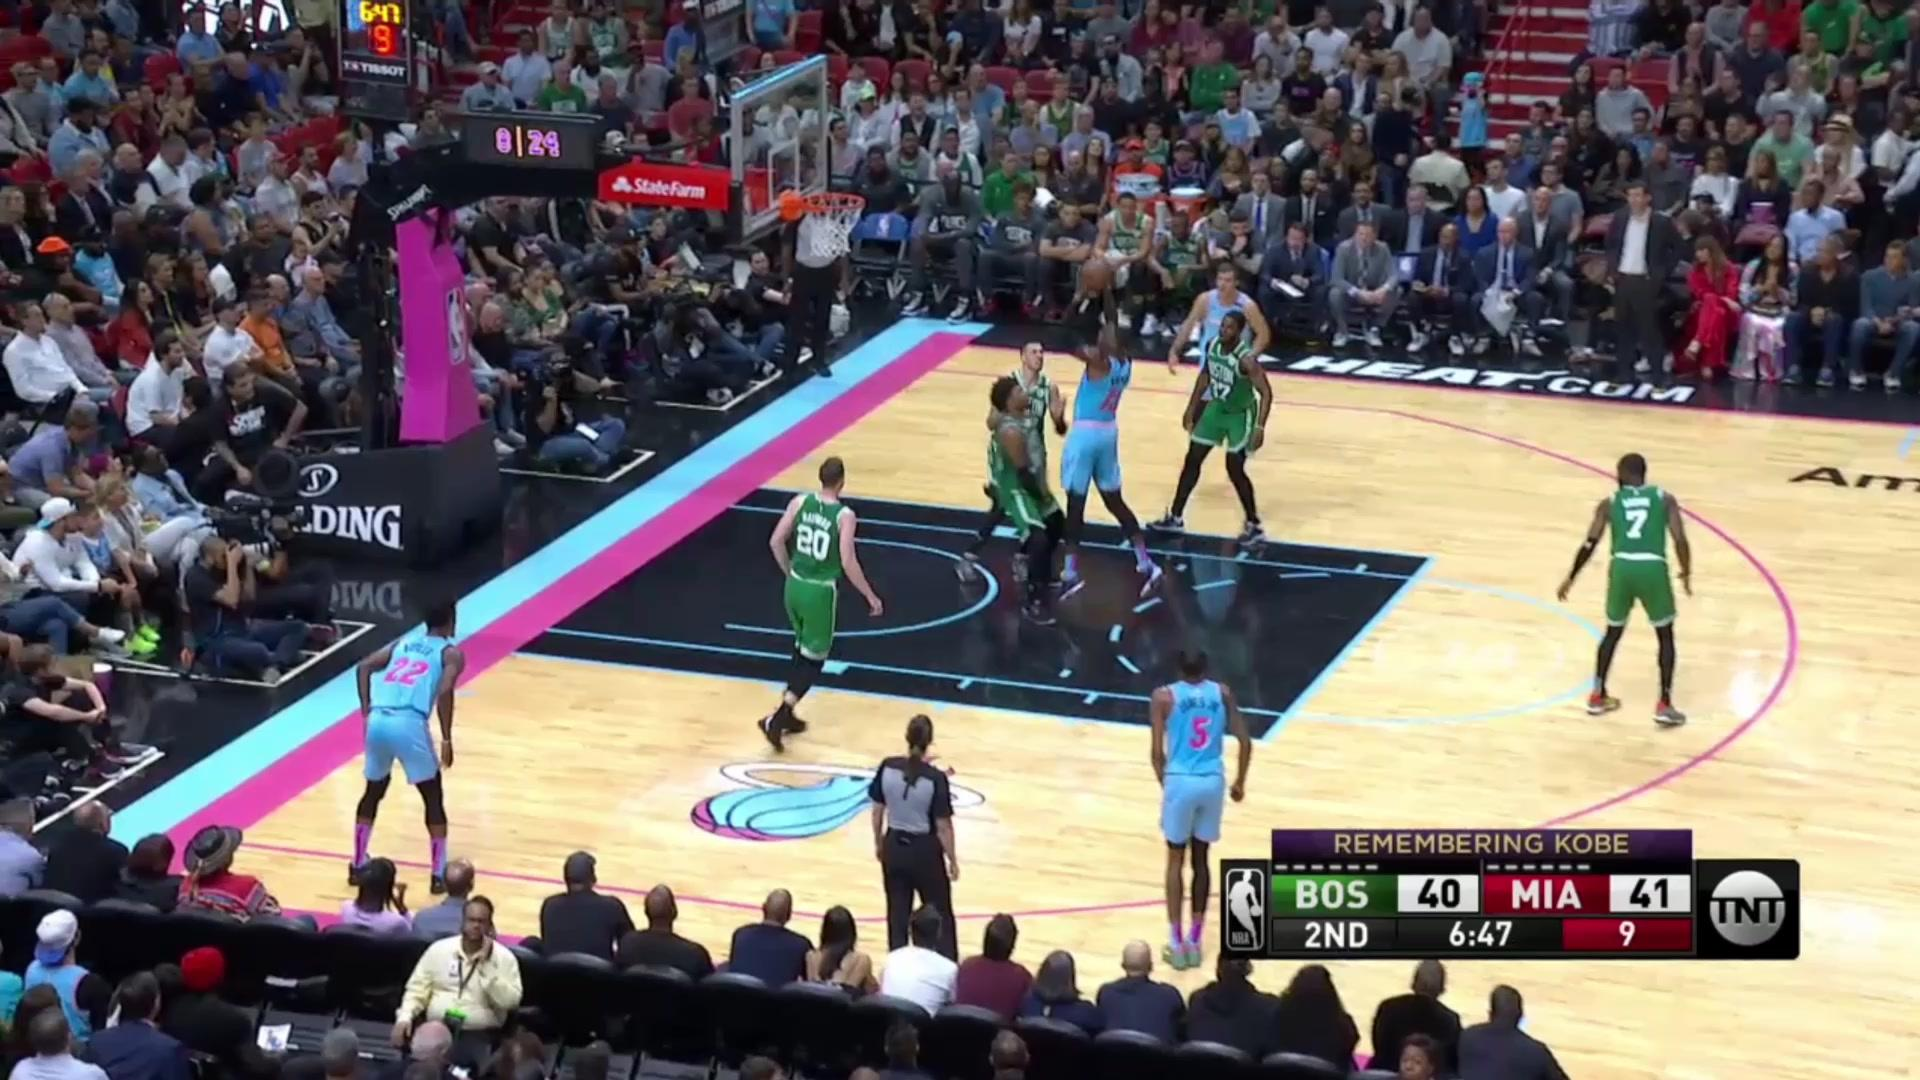no_foul: (985, 306, 1150, 641)
